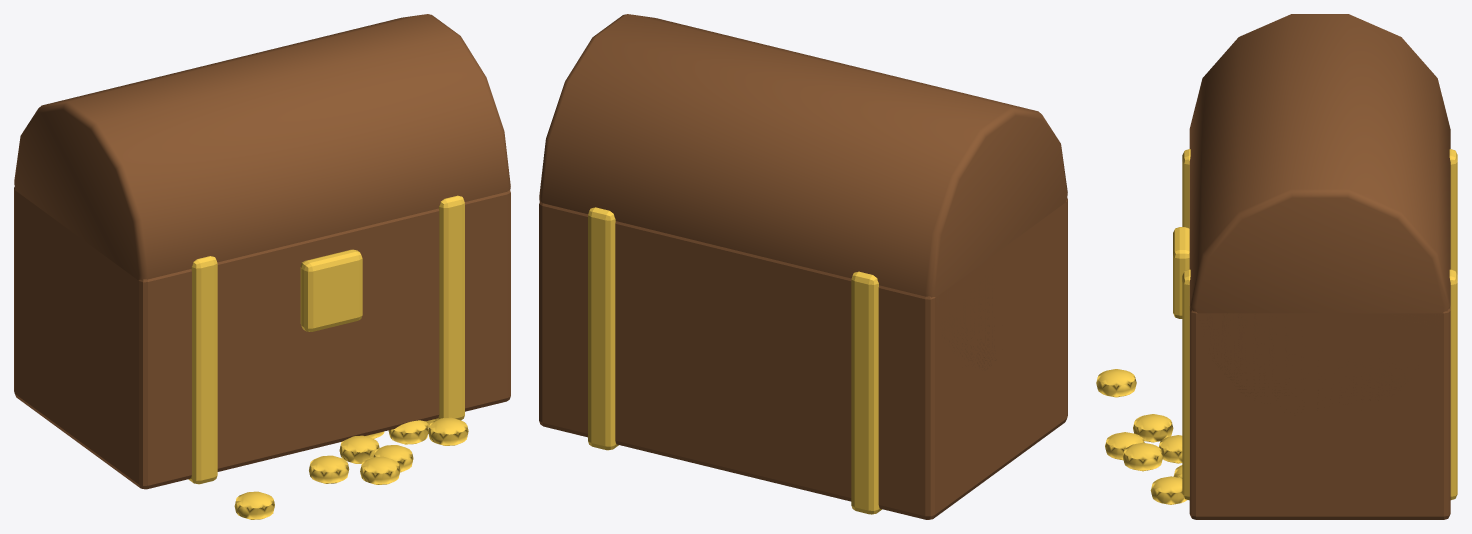
The model's file is more-truhla.glb.
3 renders of one model, left to right at view 1: azimuth 30°, elevation 25°; view 2: azimuth 150°, elevation 25°; view 3: azimuth 270°, elevation 25°, orthographic. The views are drawn at different scales.
Visible parts, largest first — view 1: more-truhla; view 2: more-truhla; view 3: more-truhla.
Part boxes in pixels (bbox=[...]): more-truhla: bbox=[14, 14, 510, 519]; more-truhla: bbox=[539, 14, 1067, 519]; more-truhla: bbox=[1096, 14, 1457, 519].
Bounding box in the file's own units: 0.9 × 0.8031 × 0.7615.
